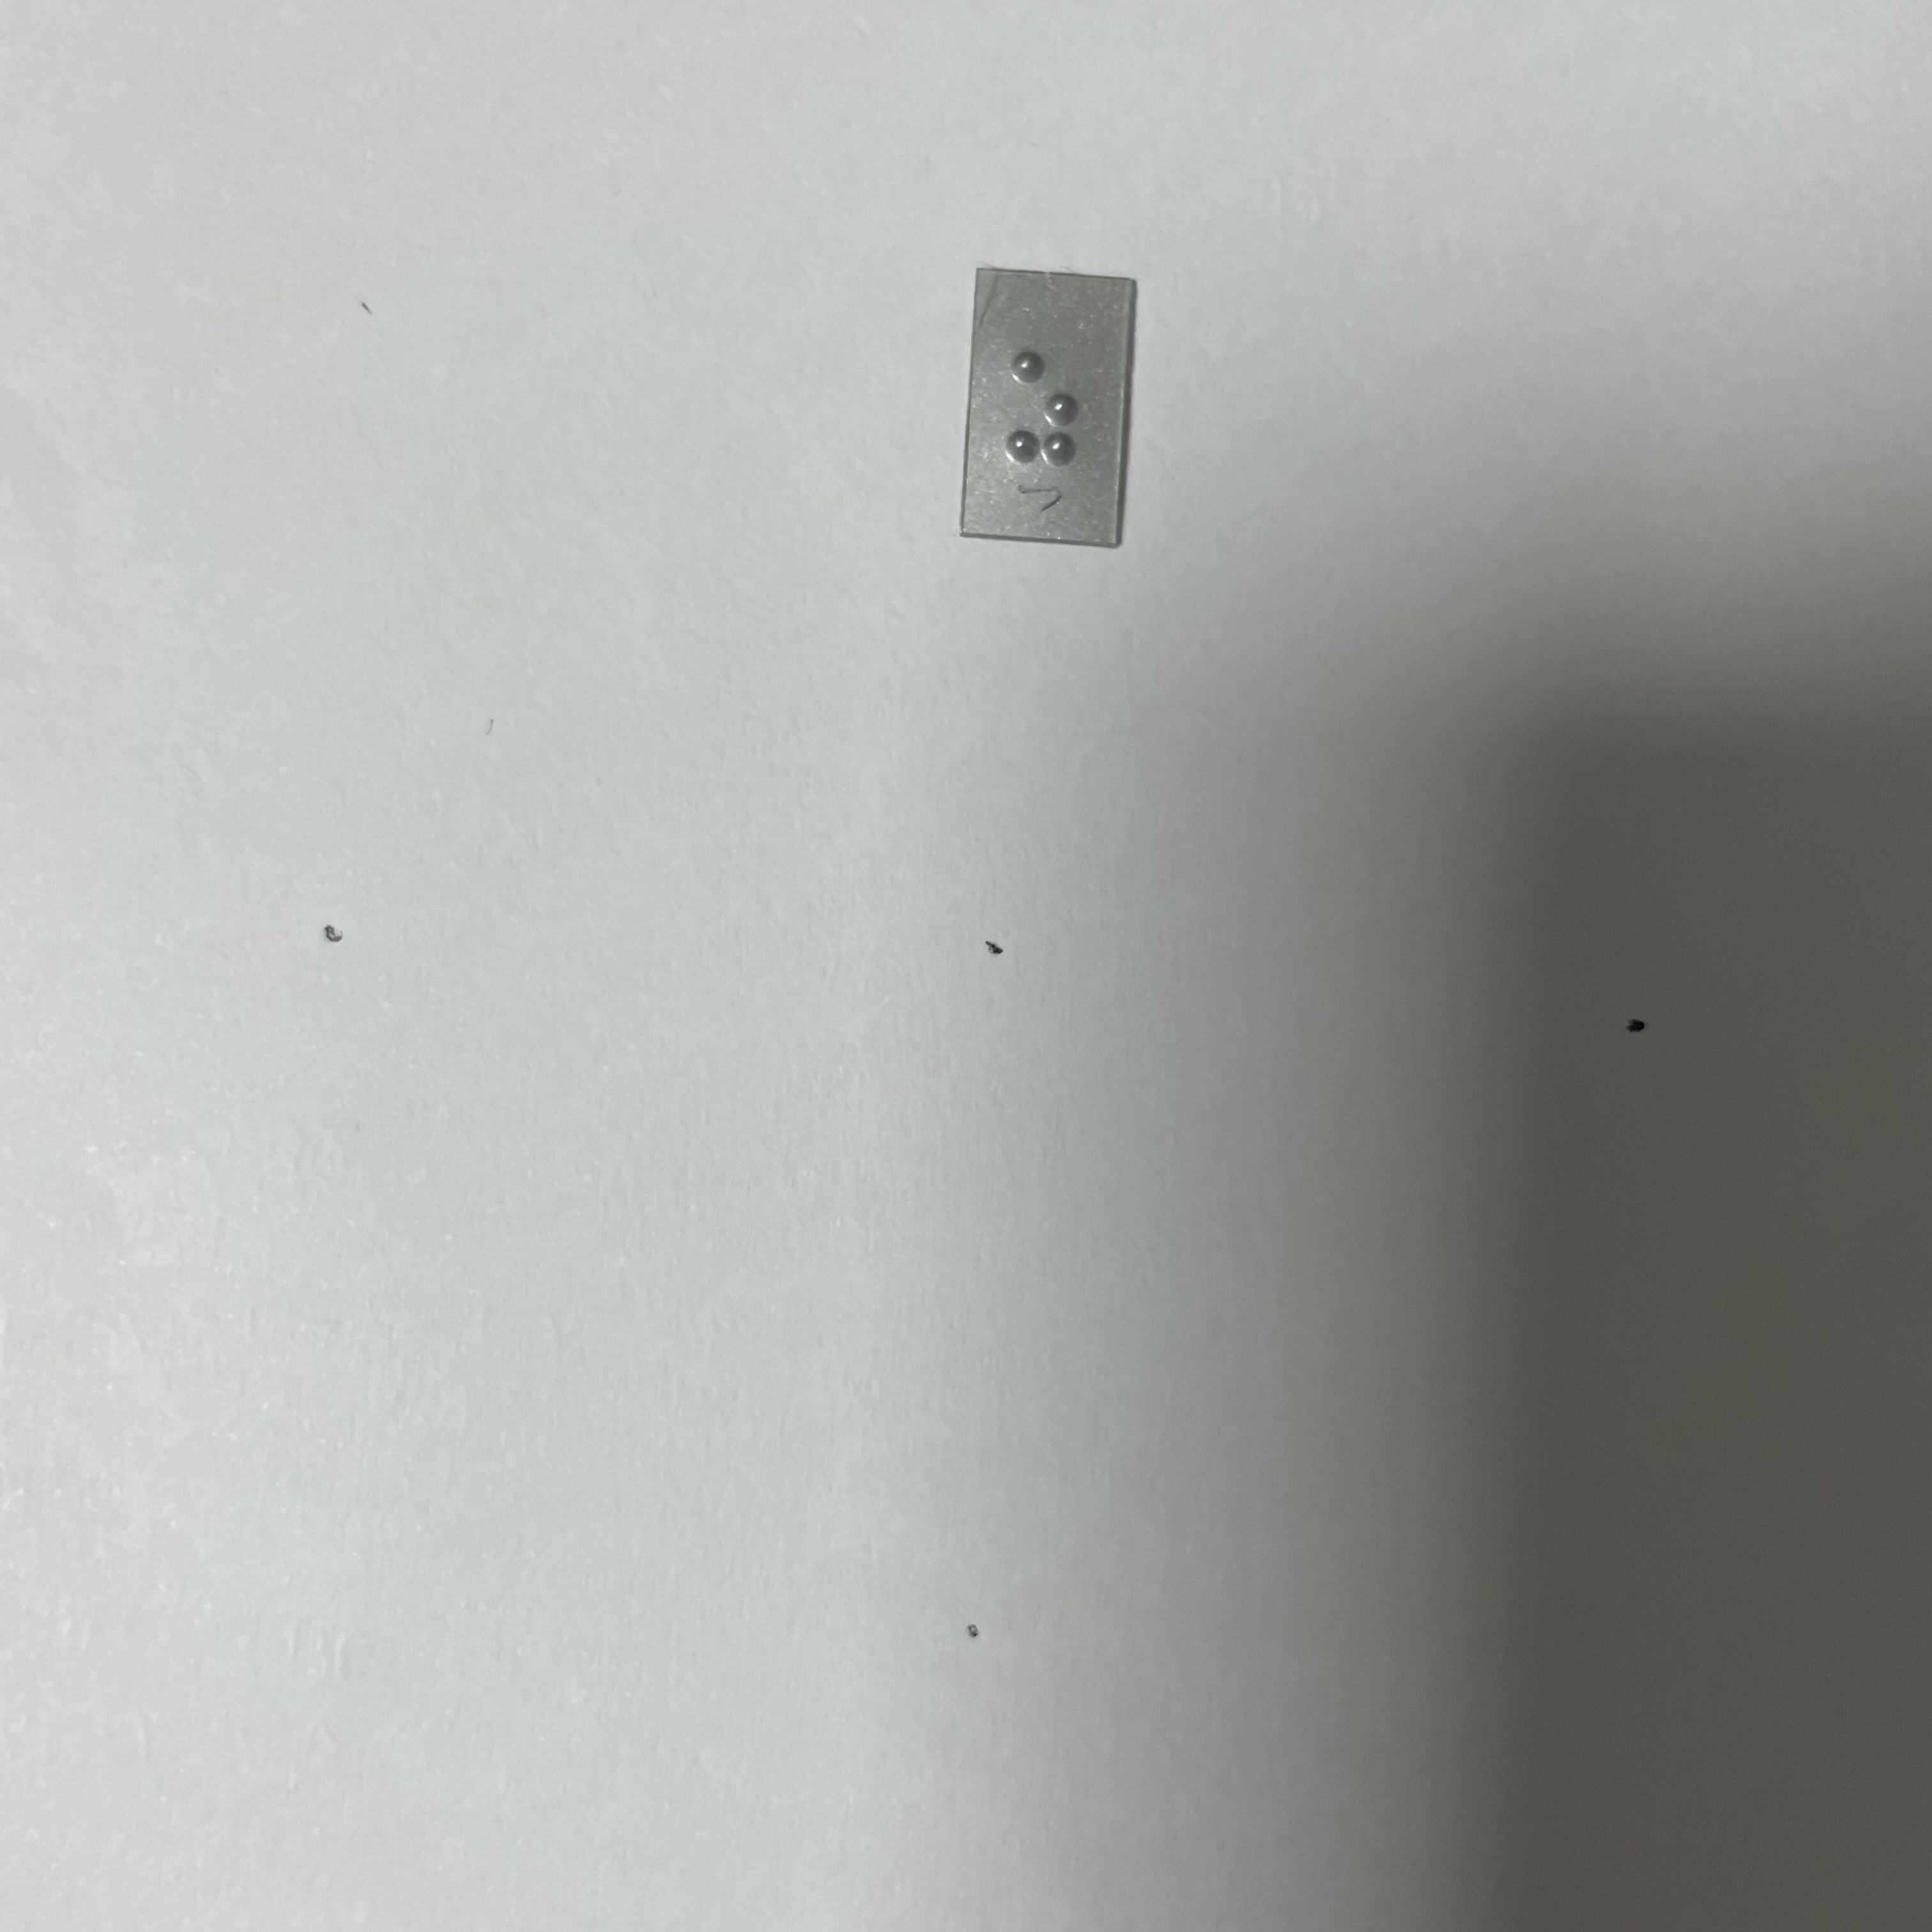z: (999, 336, 1086, 480)
